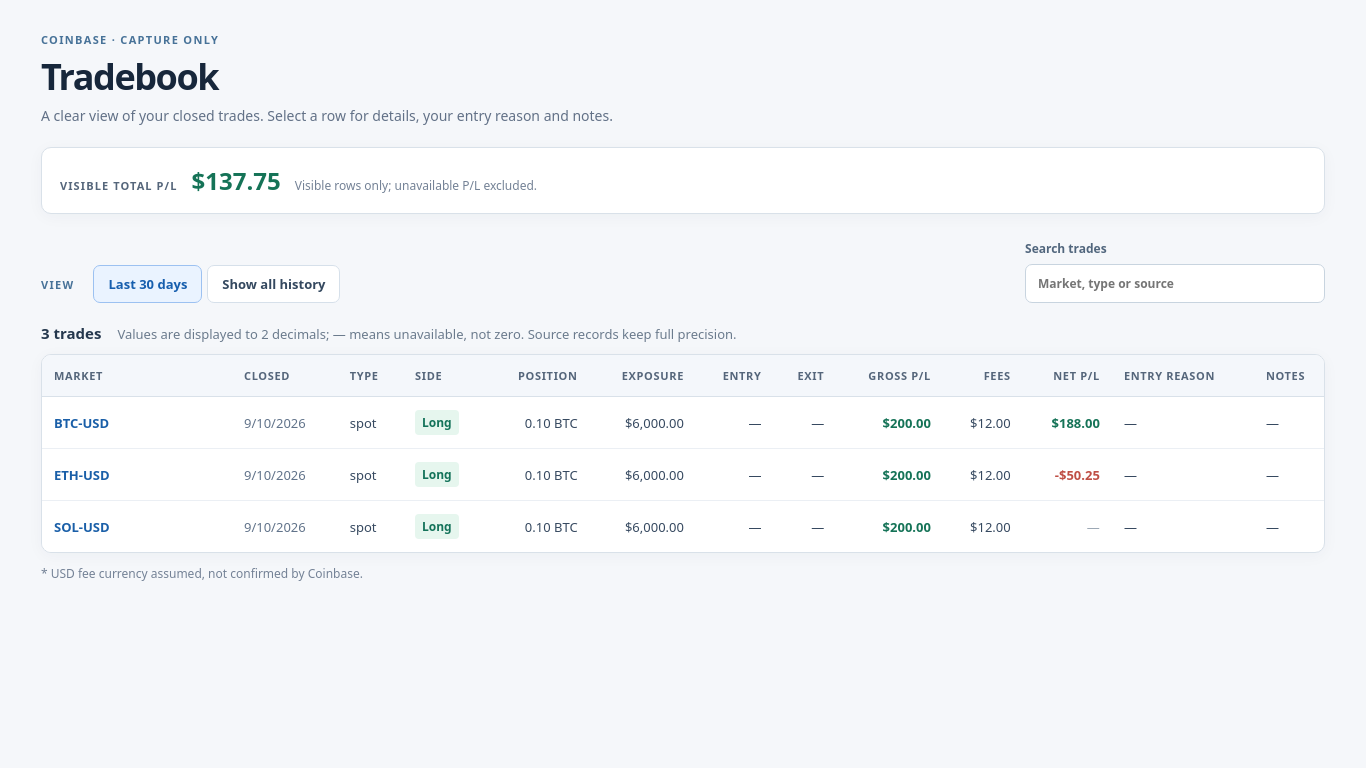
Test case: totals only visible filtered trades and excludes unavailable P/L
The width and height of the screenshot is (1366, 768).
Expected: the button "SOL-USD" is shown, [54,518,110,536]
Expected: the element named "Visible total profit and loss" shows "$137.75", [192,164,281,197]
Type "ETH" into the field with placeholder "Market, type or source" at (1175, 284), box [1025,264,1325,303]
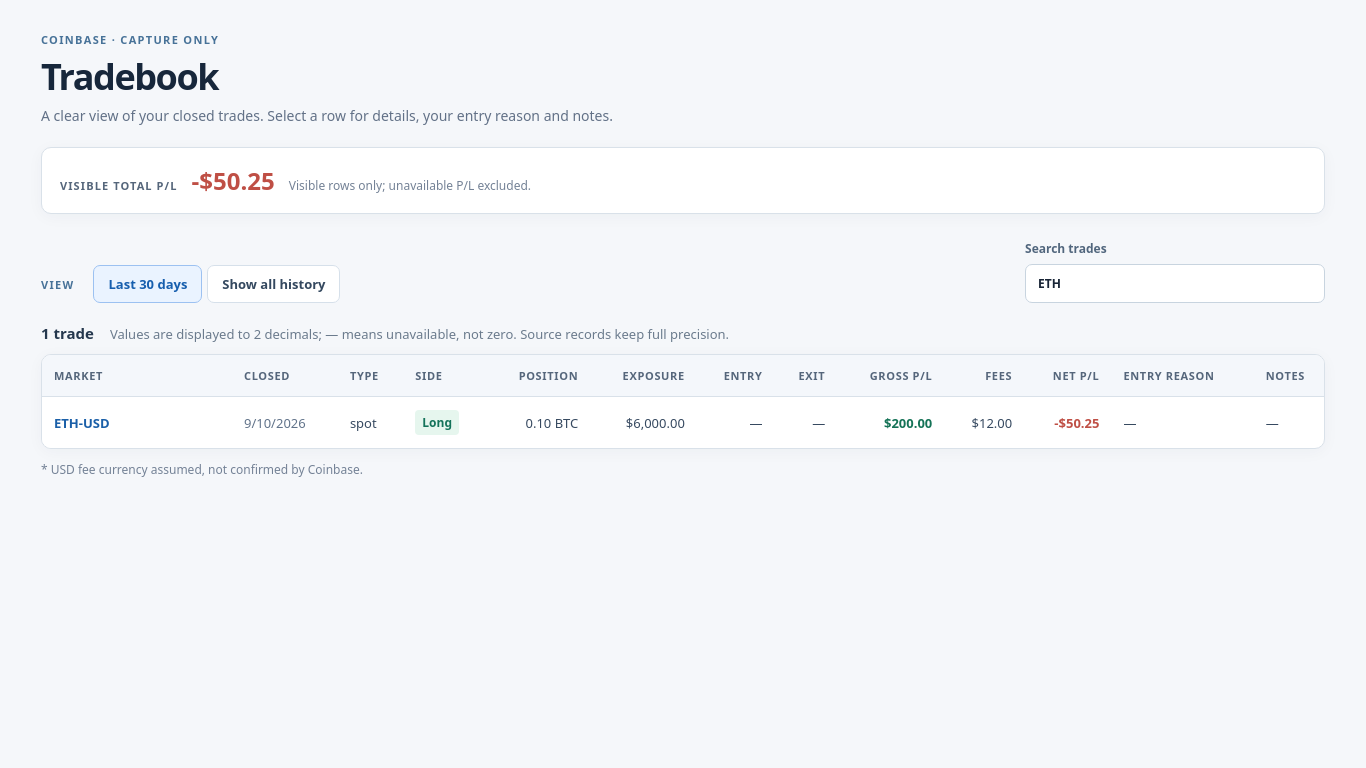
Expected: the element named "Visible total profit and loss" shows "-$50.25", [192,164,275,197]
